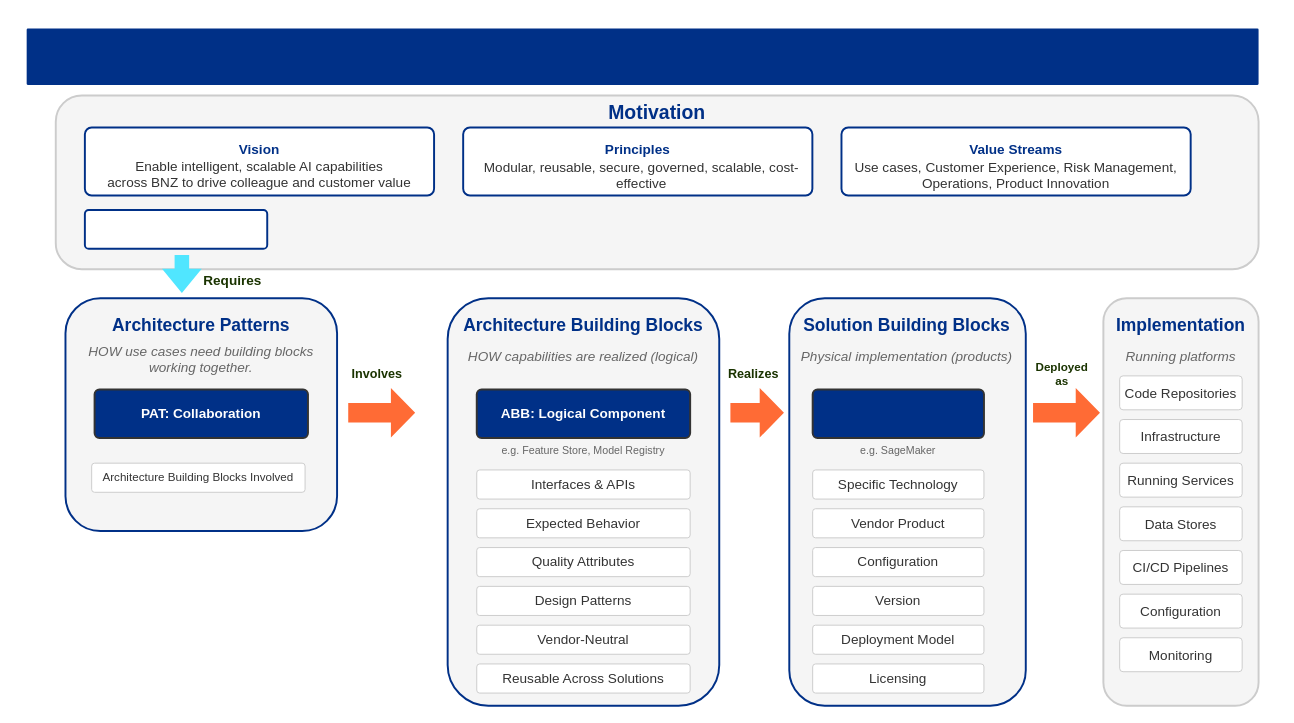
Image size: 1294x723. Some labels were removed from this diagram. The centre of each missing label's shape, as x and y in pixels:
BNZ AI Platform - Architecture Definition Flow: point 642,56
SBB: Physical Product: point 897,413
Use Case: point 175,229
